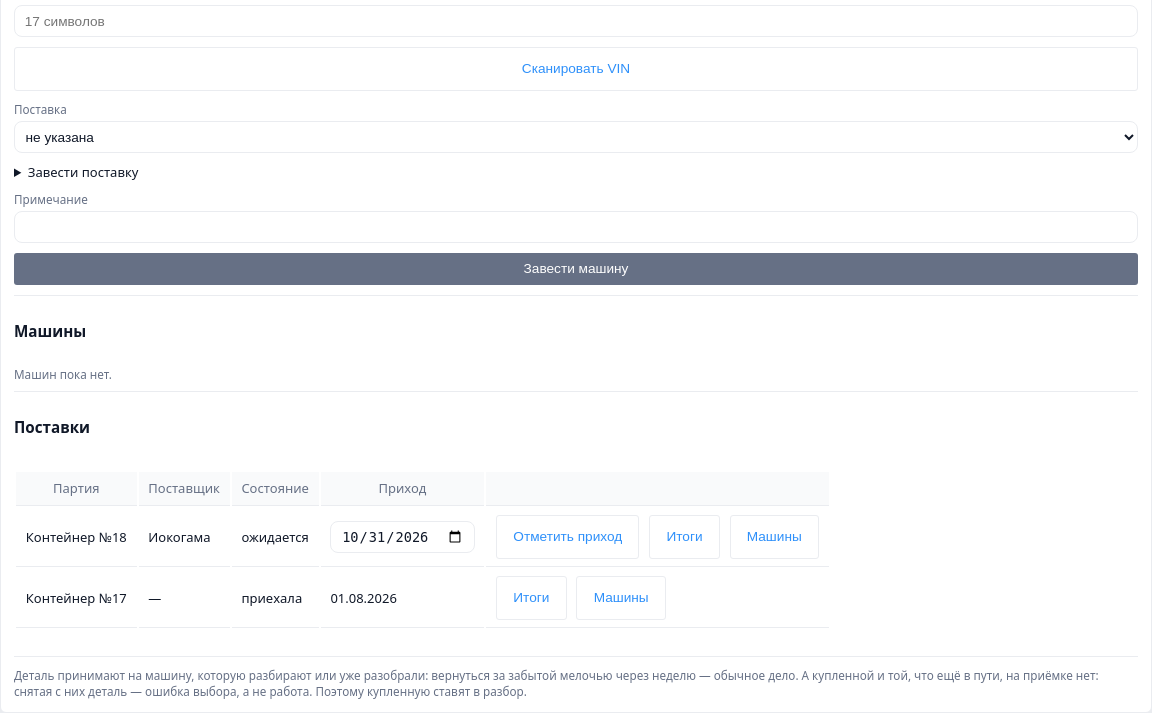
поставка: приход и состав › машины партии называются номером клиента, а не внутренним кодом
(page scrolled)
Click the button "Машины" in the row of "Контейнер №18" at (774, 537), box [730,515,819,559]
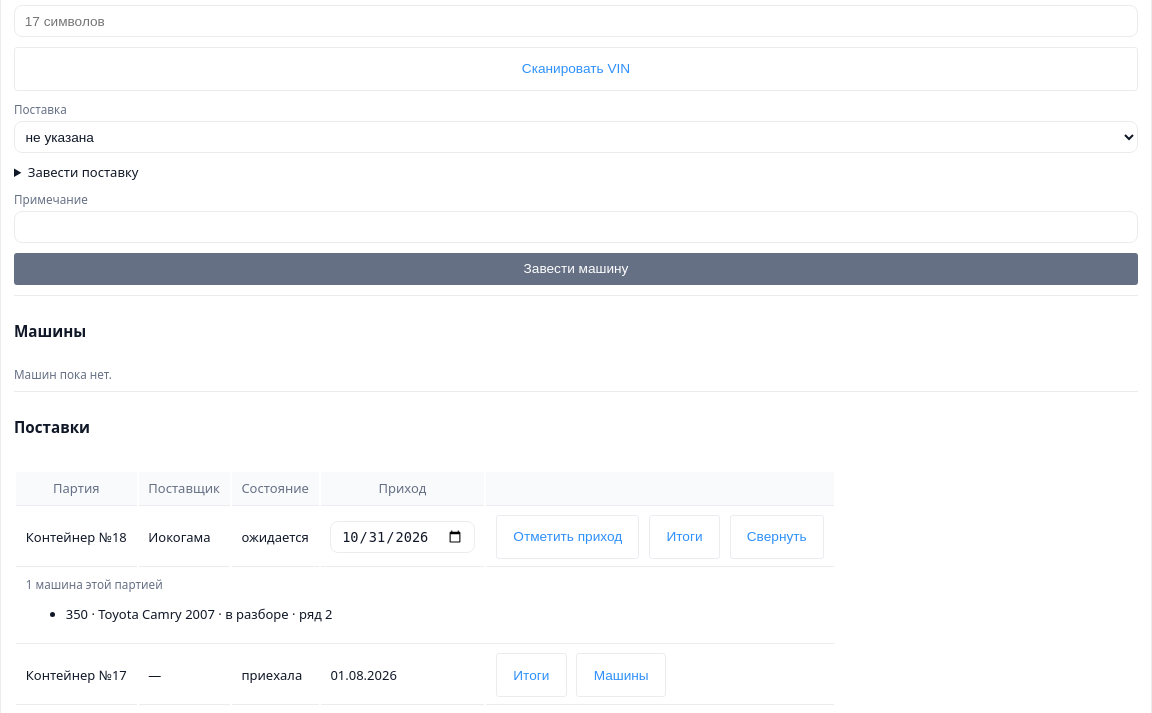
Expected: the list item "350 · Toyota Camry 2007 · в разборе · ряд 2" is shown, [66,605,333,623]
Expected: the text "1 машина этой партией" is shown, [26,576,163,592]
